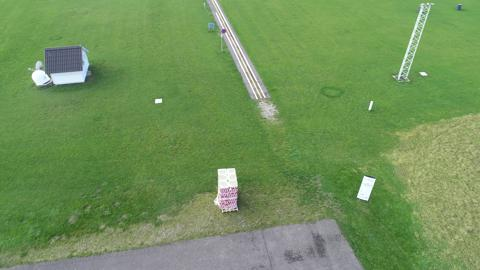RockwoolPallet: (217, 167, 239, 211)
